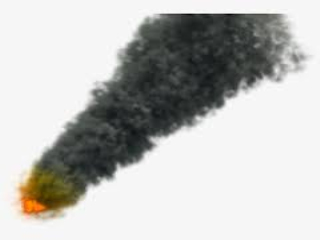smoke: (13, 17, 300, 215)
